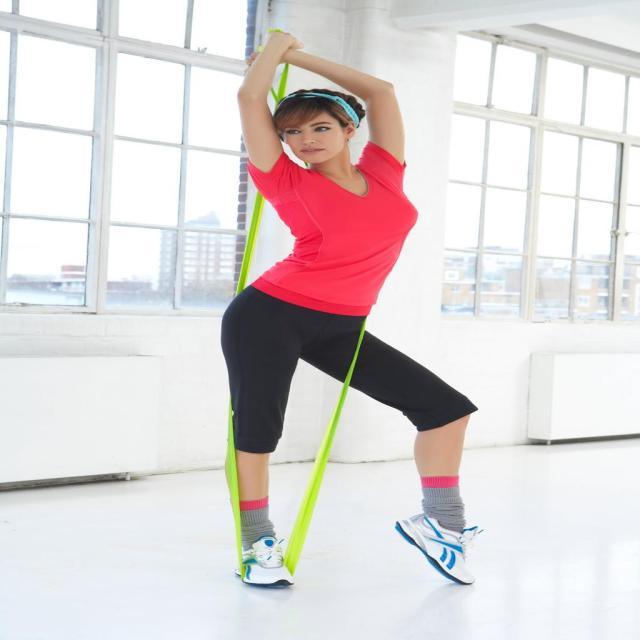Face: (264, 95, 362, 162)
